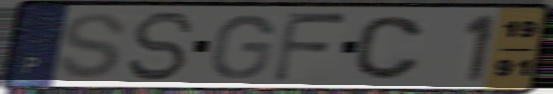1: (462, 13, 500, 85)
C: (351, 13, 426, 82)
F: (269, 10, 351, 85)
G: (207, 13, 277, 82)
S: (124, 9, 197, 84), (55, 11, 130, 82)
